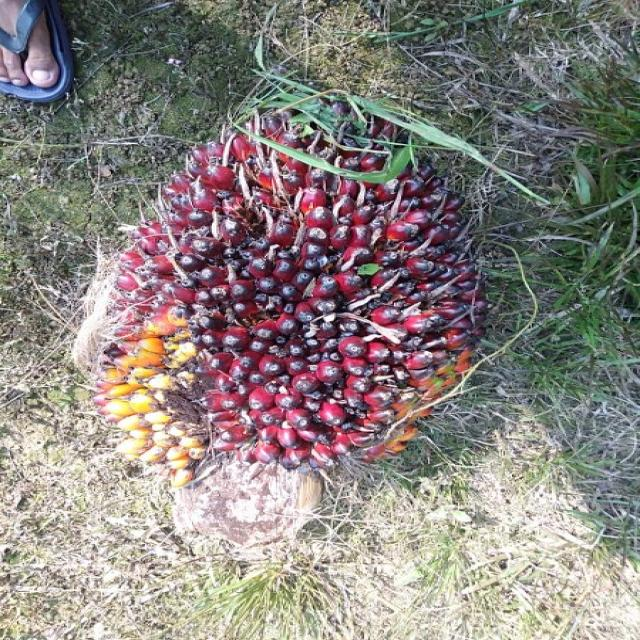fraksi 1: (53, 62, 534, 546)
